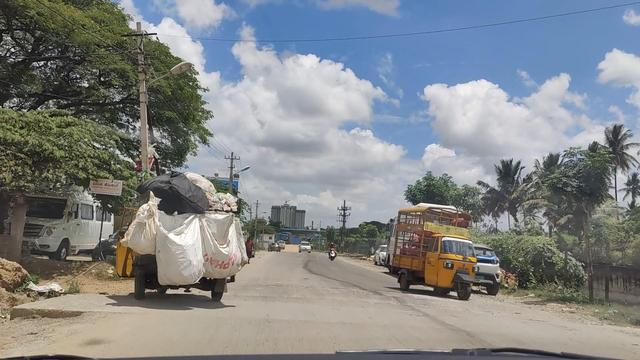HMV: (124, 168, 243, 314), (384, 205, 480, 307)
RoadDamages: (258, 279, 377, 300)
